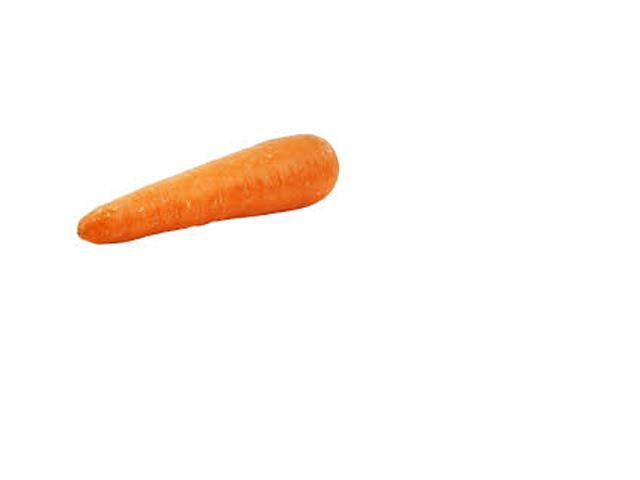carrot: (62, 122, 342, 242)
